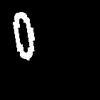chain: (13, 12, 34, 59)
